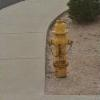a fire hydrant: (46, 15, 72, 82)
